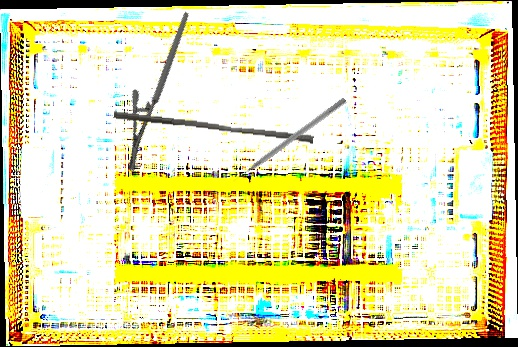Needle Holder: (84, 11, 234, 174)
Pusher: (229, 95, 348, 185), (112, 111, 315, 144)
